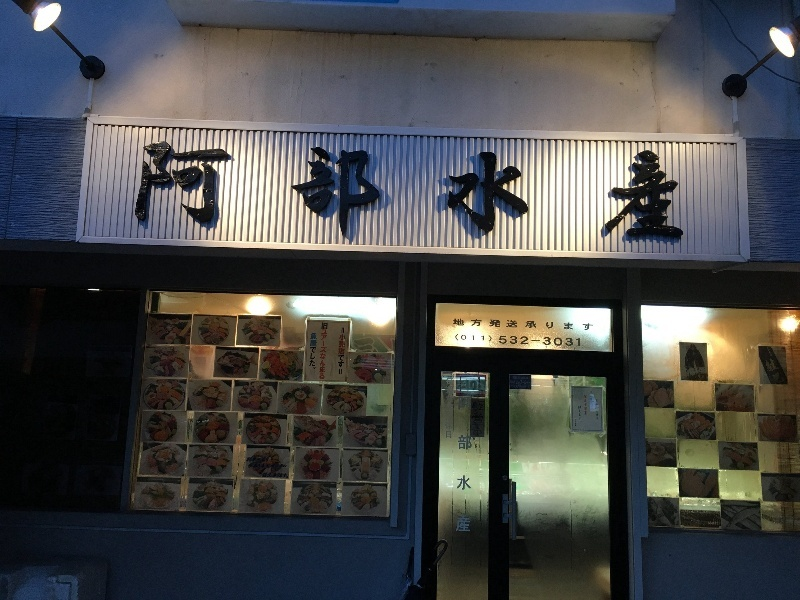text: (145, 144, 160, 244), (161, 144, 176, 244), (177, 144, 192, 244), (193, 144, 208, 244), (209, 144, 224, 244), (225, 144, 240, 244), (241, 144, 256, 244), (257, 144, 272, 244), (273, 144, 288, 244), (289, 144, 304, 244), (305, 144, 320, 244), (321, 144, 336, 244), (337, 144, 352, 244), (353, 144, 368, 244), (369, 144, 384, 244), (385, 144, 400, 244), (401, 144, 416, 244), (417, 144, 432, 244), (433, 144, 448, 244), (449, 144, 464, 244), (465, 144, 480, 244), (481, 144, 496, 244), (497, 144, 512, 244), (513, 144, 528, 244), (529, 144, 544, 244), (545, 144, 560, 244), (561, 144, 576, 244), (577, 144, 592, 244), (593, 144, 608, 244), (609, 144, 624, 244), (625, 144, 640, 244), (641, 144, 656, 244), (657, 144, 672, 244), (673, 144, 686, 244), (465, 397, 473, 534), (321, 323, 336, 379), (458, 397, 464, 534), (340, 328, 352, 375), (311, 333, 320, 370), (595, 399, 608, 420), (578, 406, 592, 422), (577, 318, 593, 331), (465, 318, 480, 331), (481, 318, 496, 331), (497, 318, 512, 331), (513, 318, 528, 331), (529, 318, 544, 331), (545, 318, 560, 331), (561, 318, 576, 331), (513, 335, 528, 347), (529, 335, 544, 347), (545, 335, 560, 347), (561, 335, 576, 347), (584, 395, 592, 416), (472, 415, 480, 435), (500, 335, 512, 347), (454, 318, 464, 331), (465, 334, 480, 342), (481, 334, 492, 342), (456, 334, 464, 342), (449, 422, 453, 438), (513, 376, 528, 380), (513, 381, 528, 385), (513, 385, 528, 389), (481, 415, 484, 435), (474, 402, 480, 411), (577, 335, 581, 347), (445, 422, 448, 438), (590, 391, 592, 408), (481, 402, 483, 411), (593, 391, 594, 408), (529, 381, 531, 385), (529, 385, 531, 389), (575, 419, 576, 426), (511, 381, 512, 385), (511, 385, 512, 389)
